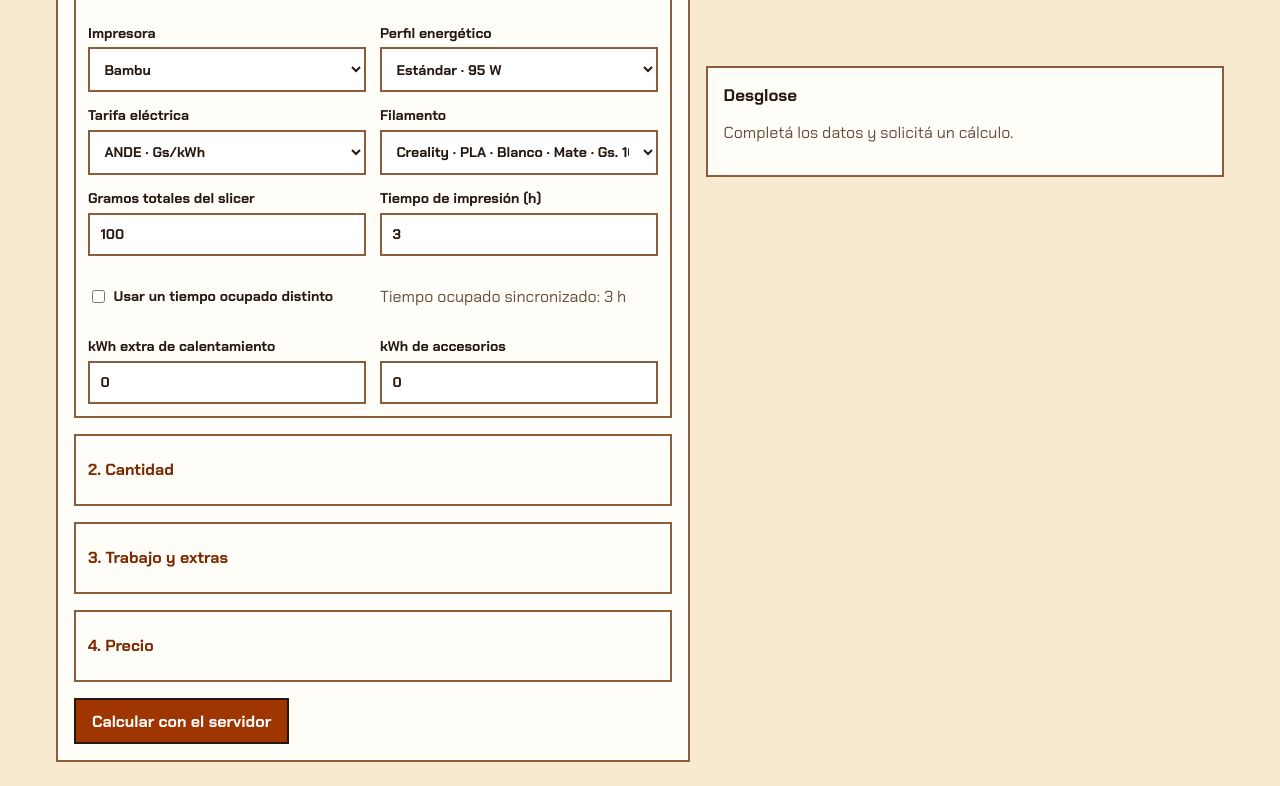
Test: precio avanzado vigente › desconectarse invalida el resultado y descarta una respuesta tardía incluso al reconectar
(page scrolled)
Click the button "Calcular con el servidor": coordinates (182, 721) [74, 698, 289, 744]
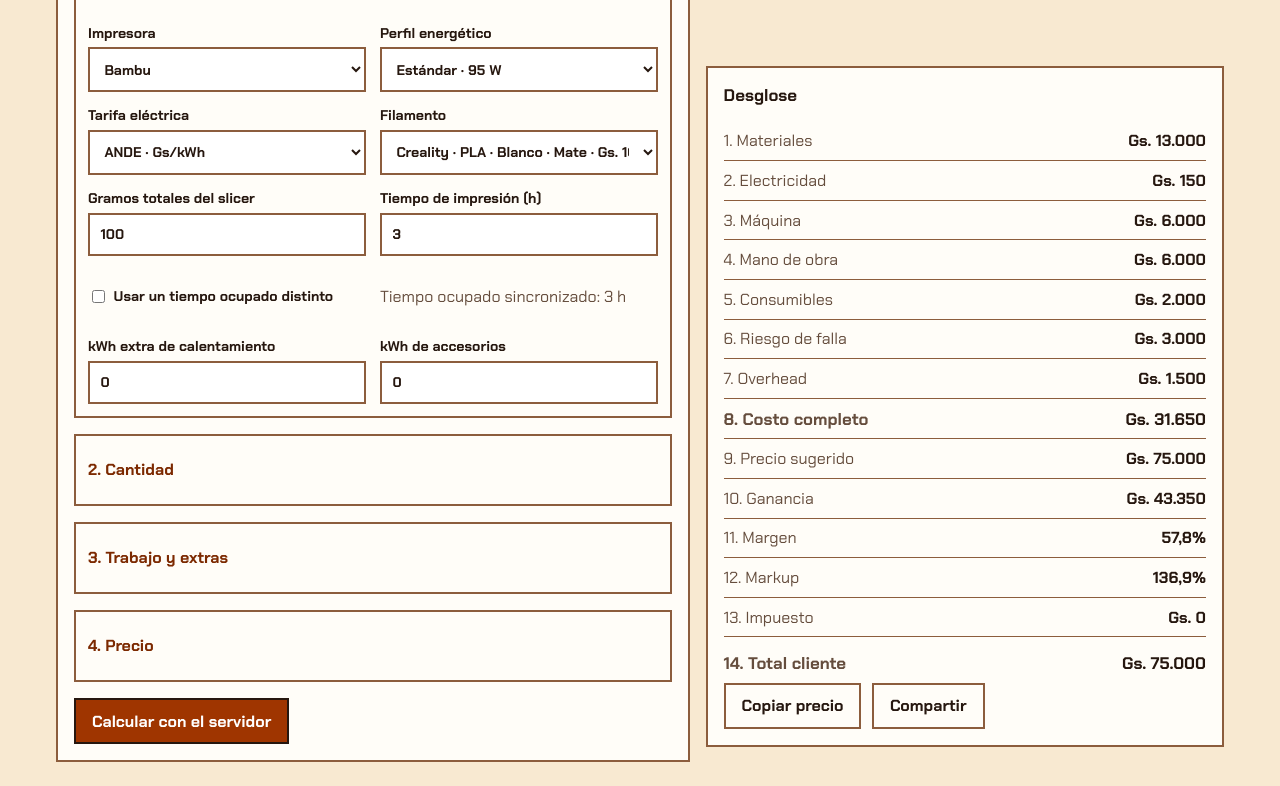
Click the button "Calcular con el servidor": coordinates (182, 721) [74, 698, 289, 744]
(page scrolled)
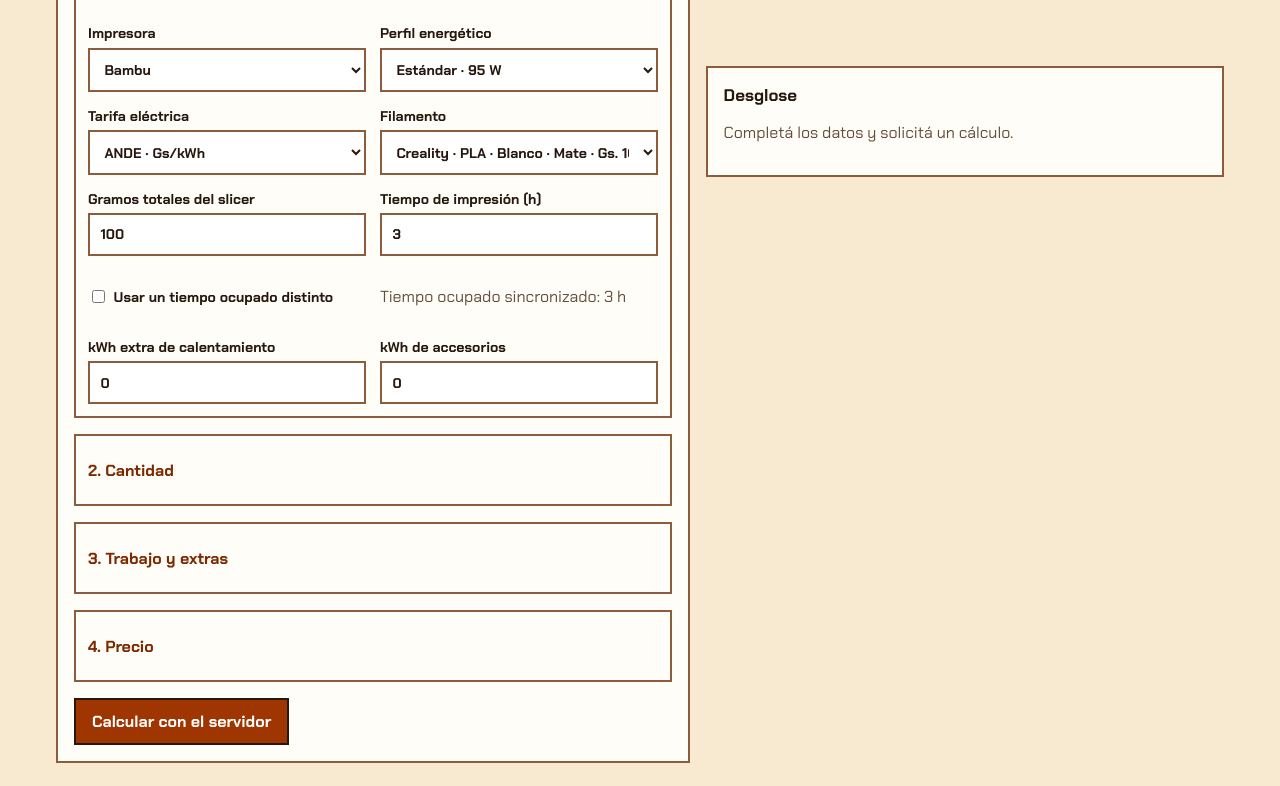
Expected: the button "Copiar precio" is gone
